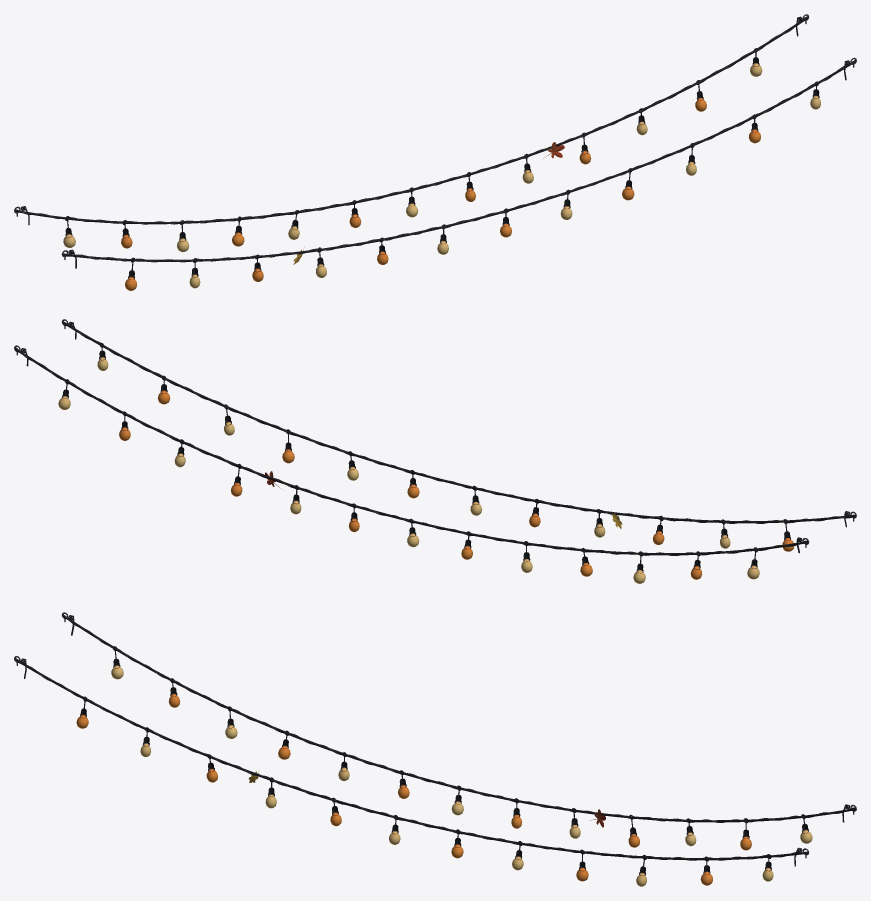
The model's file is autumn-string-lights.glb.
3 views of the same model, one above another, from view 1: azimuth 30°, elevation 25°; view 2: azimuth 150°, elevation 25°; view 3: azimuth 330°, elevation 25° (orthographic).
Visible parts, largest first — view 1: autumn_string_lights; view 2: autumn_string_lights; view 3: autumn_string_lights.
Part boxes in pixels (<box>): autumn_string_lights: <box>14,14,856,290</box>; autumn_string_lights: <box>14,319,856,583</box>; autumn_string_lights: <box>14,612,856,886</box>.
Bounding box in the file's own units: 4.81 × 0.6102 × 0.5888.
